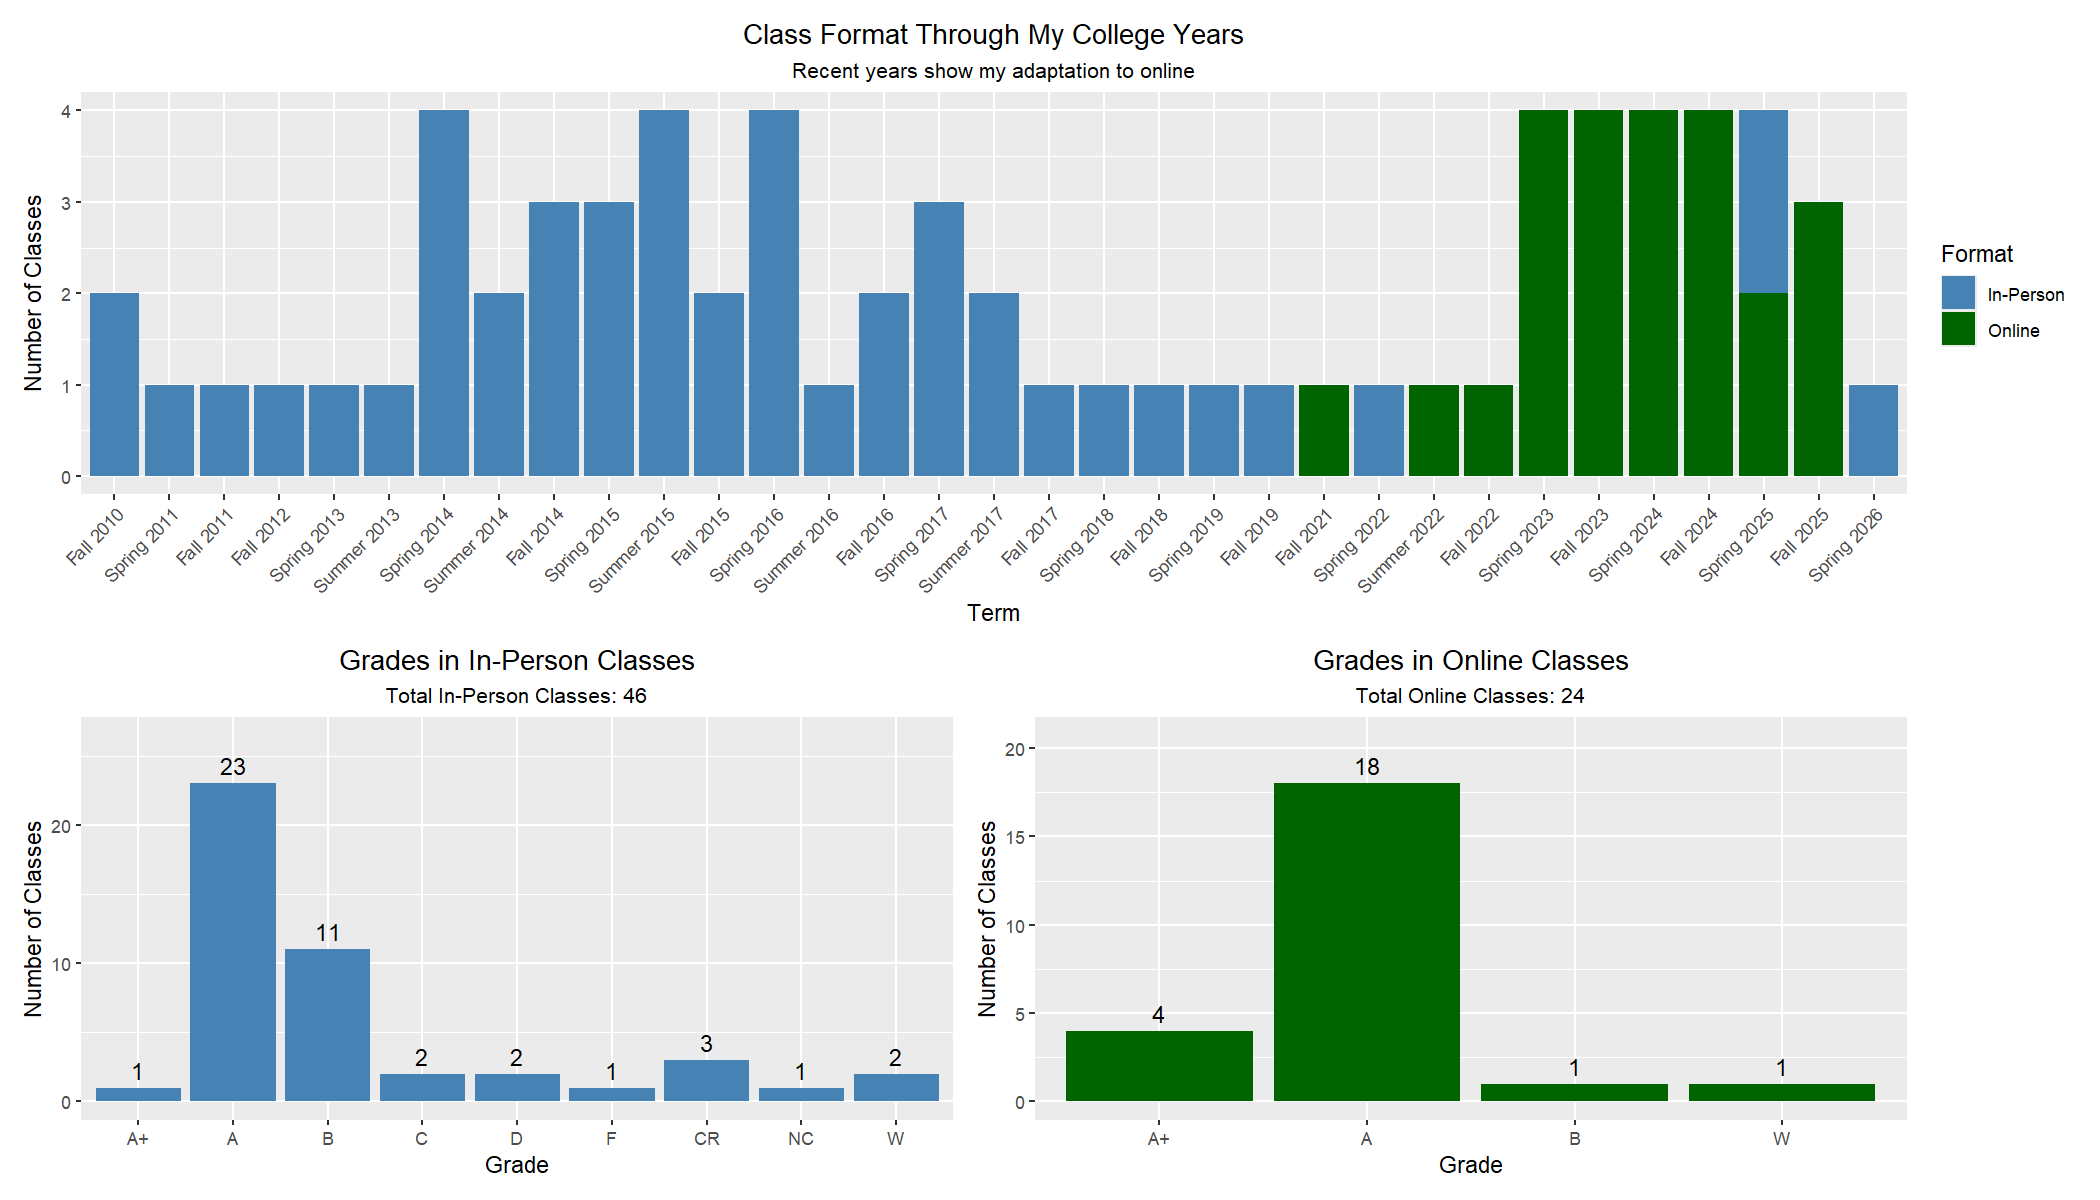

Layout of this report page (visuals, bound fields, positions):
{"tool":"powerbi","page":{"name":"Academic Performance","canvas":[1920,1080],"ordinal":0},"visuals":[{"type":"clusteredBarChart","title":"Number of Classes by Grade ","fields":{"Category":["Combined Transcripts.Grade"],"Y":["Combined Transcripts.SUM"]},"box":[634.9,0,1285.5,307],"z":0},{"type":"textbox","box":[19.2,30,293,157],"z":1000},{"type":"columnChart","title":"Count of Courses for Online vs. In-Person","fields":{"Category":["Combined Transcripts.Term Display"],"Series":["Combined Transcripts.Online vs. In-Person"],"Y":["CountNonNull(Combined Transcripts.Course)"]},"box":[19.2,307,1901.2,772.7],"z":2000},{"type":"pieChart","title":"Total Class Percentages","fields":{"Category":["Combined Transcripts.Online vs. In-Person"],"Y":["Combined Transcripts.SUM"]},"box":[333.1,0,282.6,307],"z":3000}]}

Visuals, with their boxes in screenshot pixels (x1, y1, x2, y2), scaled from the page's 1920x1080 canvas onto the 2100x1200 screenshot:
"Number of Classes by Grade " clusteredBarChart: crop(694, 0, 2099, 341)
textbox: crop(21, 33, 341, 208)
"Count of Courses for Online vs. In-Person" columnChart: crop(21, 341, 2099, 1199)
"Total Class Percentages" pieChart: crop(364, 0, 673, 341)
